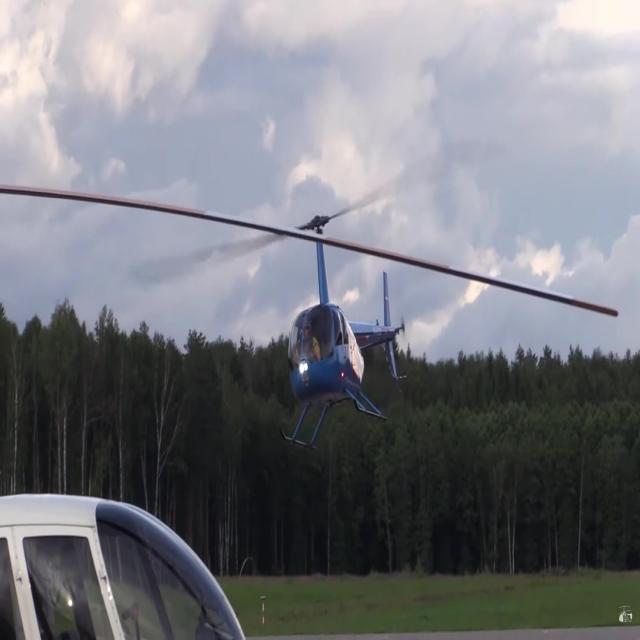CIV_HELO: (280, 209, 406, 452)
